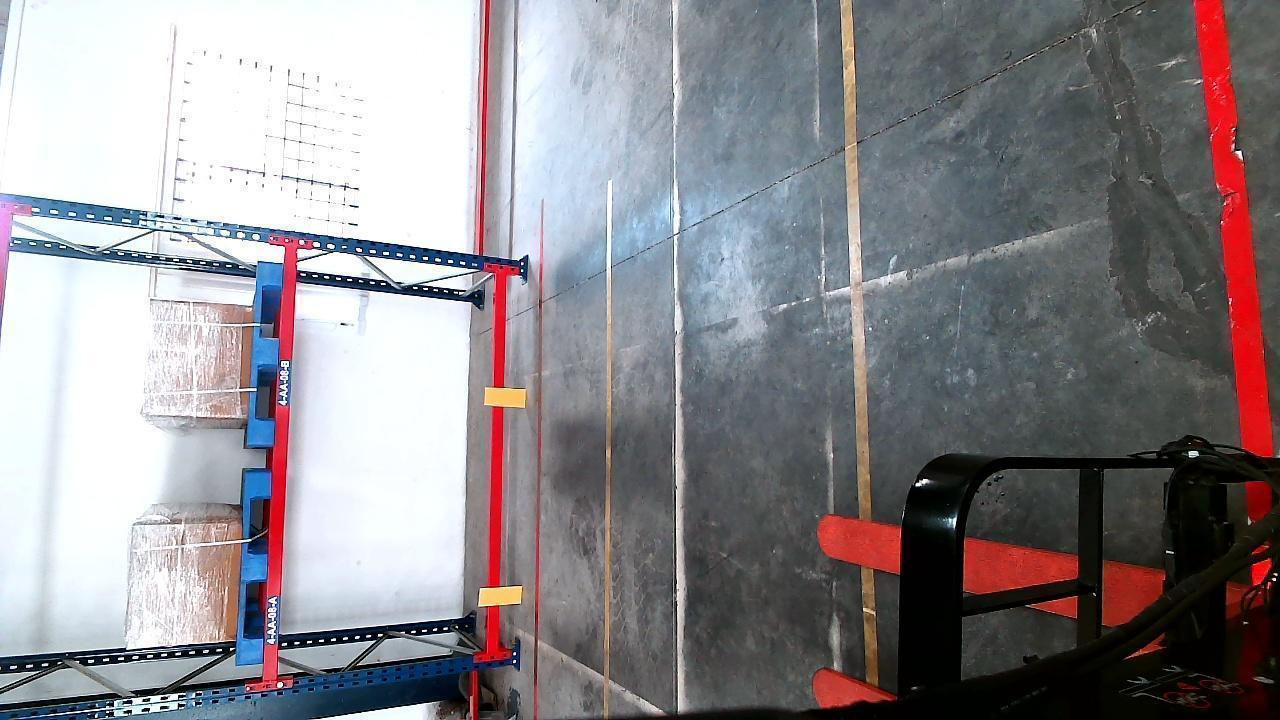red_line: (528, 196, 549, 713)
yellow_line: (841, 0, 879, 686), (597, 176, 619, 720)
